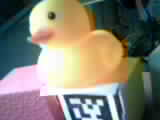duck: (24, 7, 128, 83)
